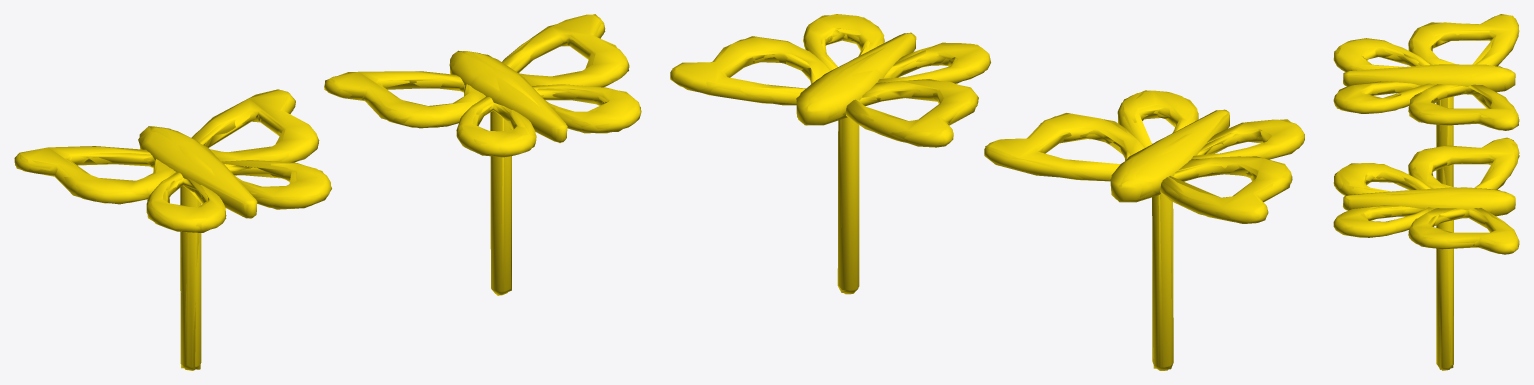
File: GPNGP-SAD0003047.glb
3 views of the same model, side by side, from view 1: azimuth 30°, elevation 25°; view 2: azimuth 150°, elevation 25°; view 3: azimuth 270°, elevation 25° (orthographic). The views are drawn at different scales.
Parts seen in each view (by area): view 1: highPolyMesh, lowPolyMesh; view 2: highPolyMesh, lowPolyMesh; view 3: highPolyMesh, lowPolyMesh.
Boxes of the visible parts, left/top/right/bottom form: highPolyMesh: left=14, top=14, right=641, bottom=370; lowPolyMesh: left=14, top=14, right=640, bottom=369; highPolyMesh: left=670, top=14, right=1304, bottom=370; lowPolyMesh: left=670, top=15, right=1304, bottom=369; highPolyMesh: left=1333, top=15, right=1519, bottom=370; lowPolyMesh: left=1333, top=14, right=1519, bottom=369.
Bounding box in the file's own units: 0.0256 × 0.00917 × 0.00863.
